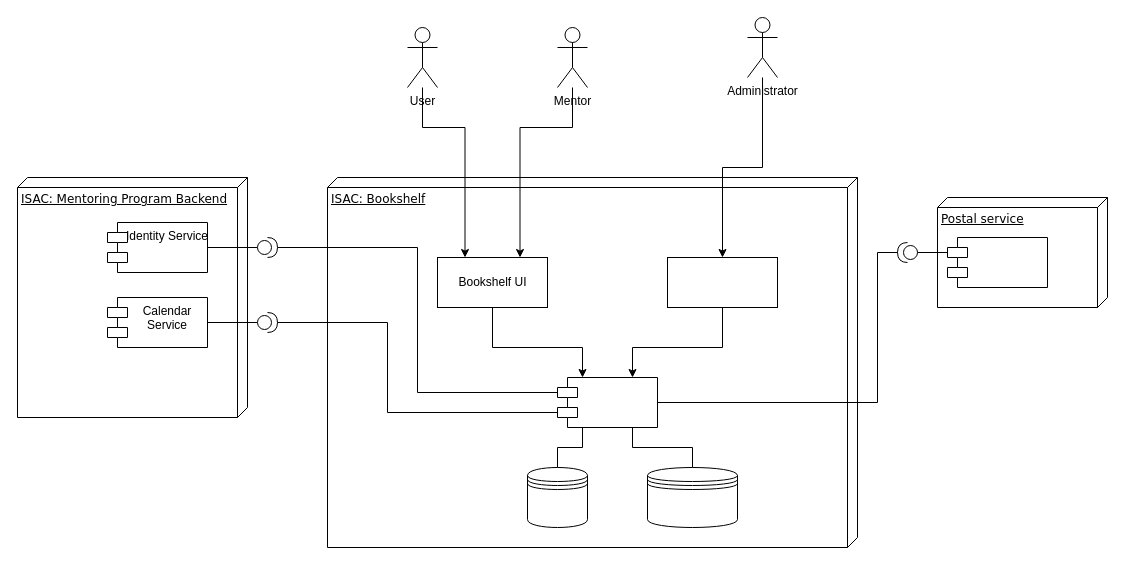
Some shapes in this 1125 by 565 pixel diagram are drawn without their labels. Each missing label, with the centre of its shape:
Bookshelf Backend: (607,402)
Bookshelf Blob storage (S3 like): (692,497)
Bookshelf DB (SQL): (557,497)
Bookshelf: Admin portal: (722,282)
Postal Service API: (997,262)
